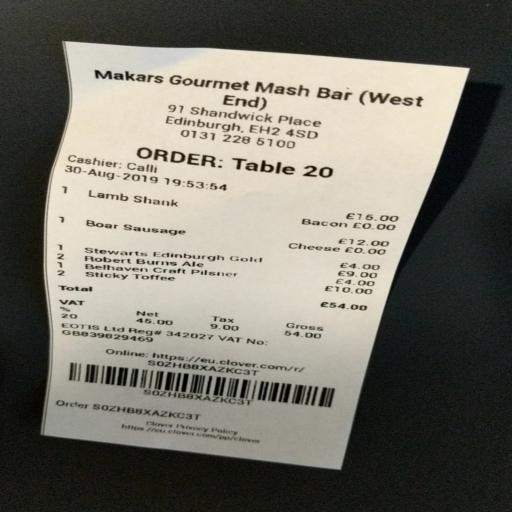paper: (22, 22, 512, 490)
